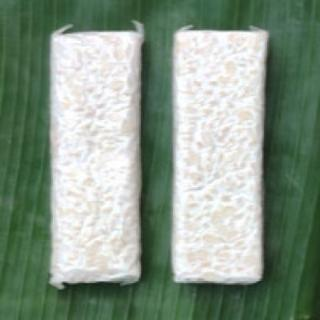Tempe: (43, 27, 146, 287), (170, 26, 266, 288)
